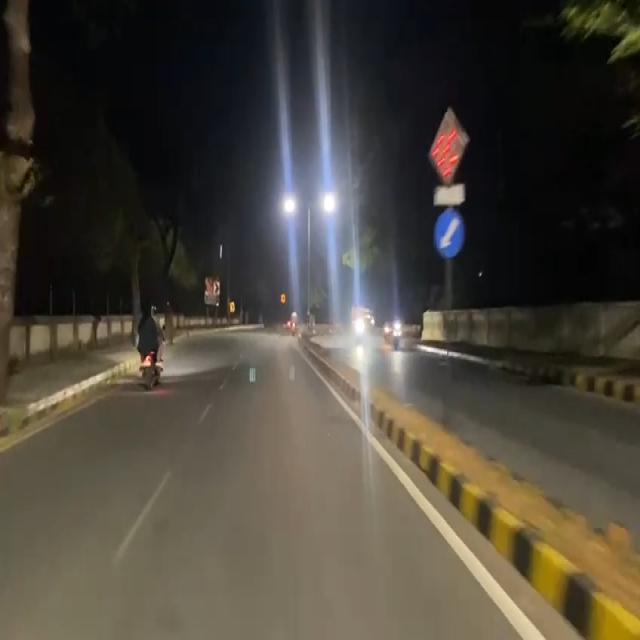bien_cam: (430, 204, 468, 266)
